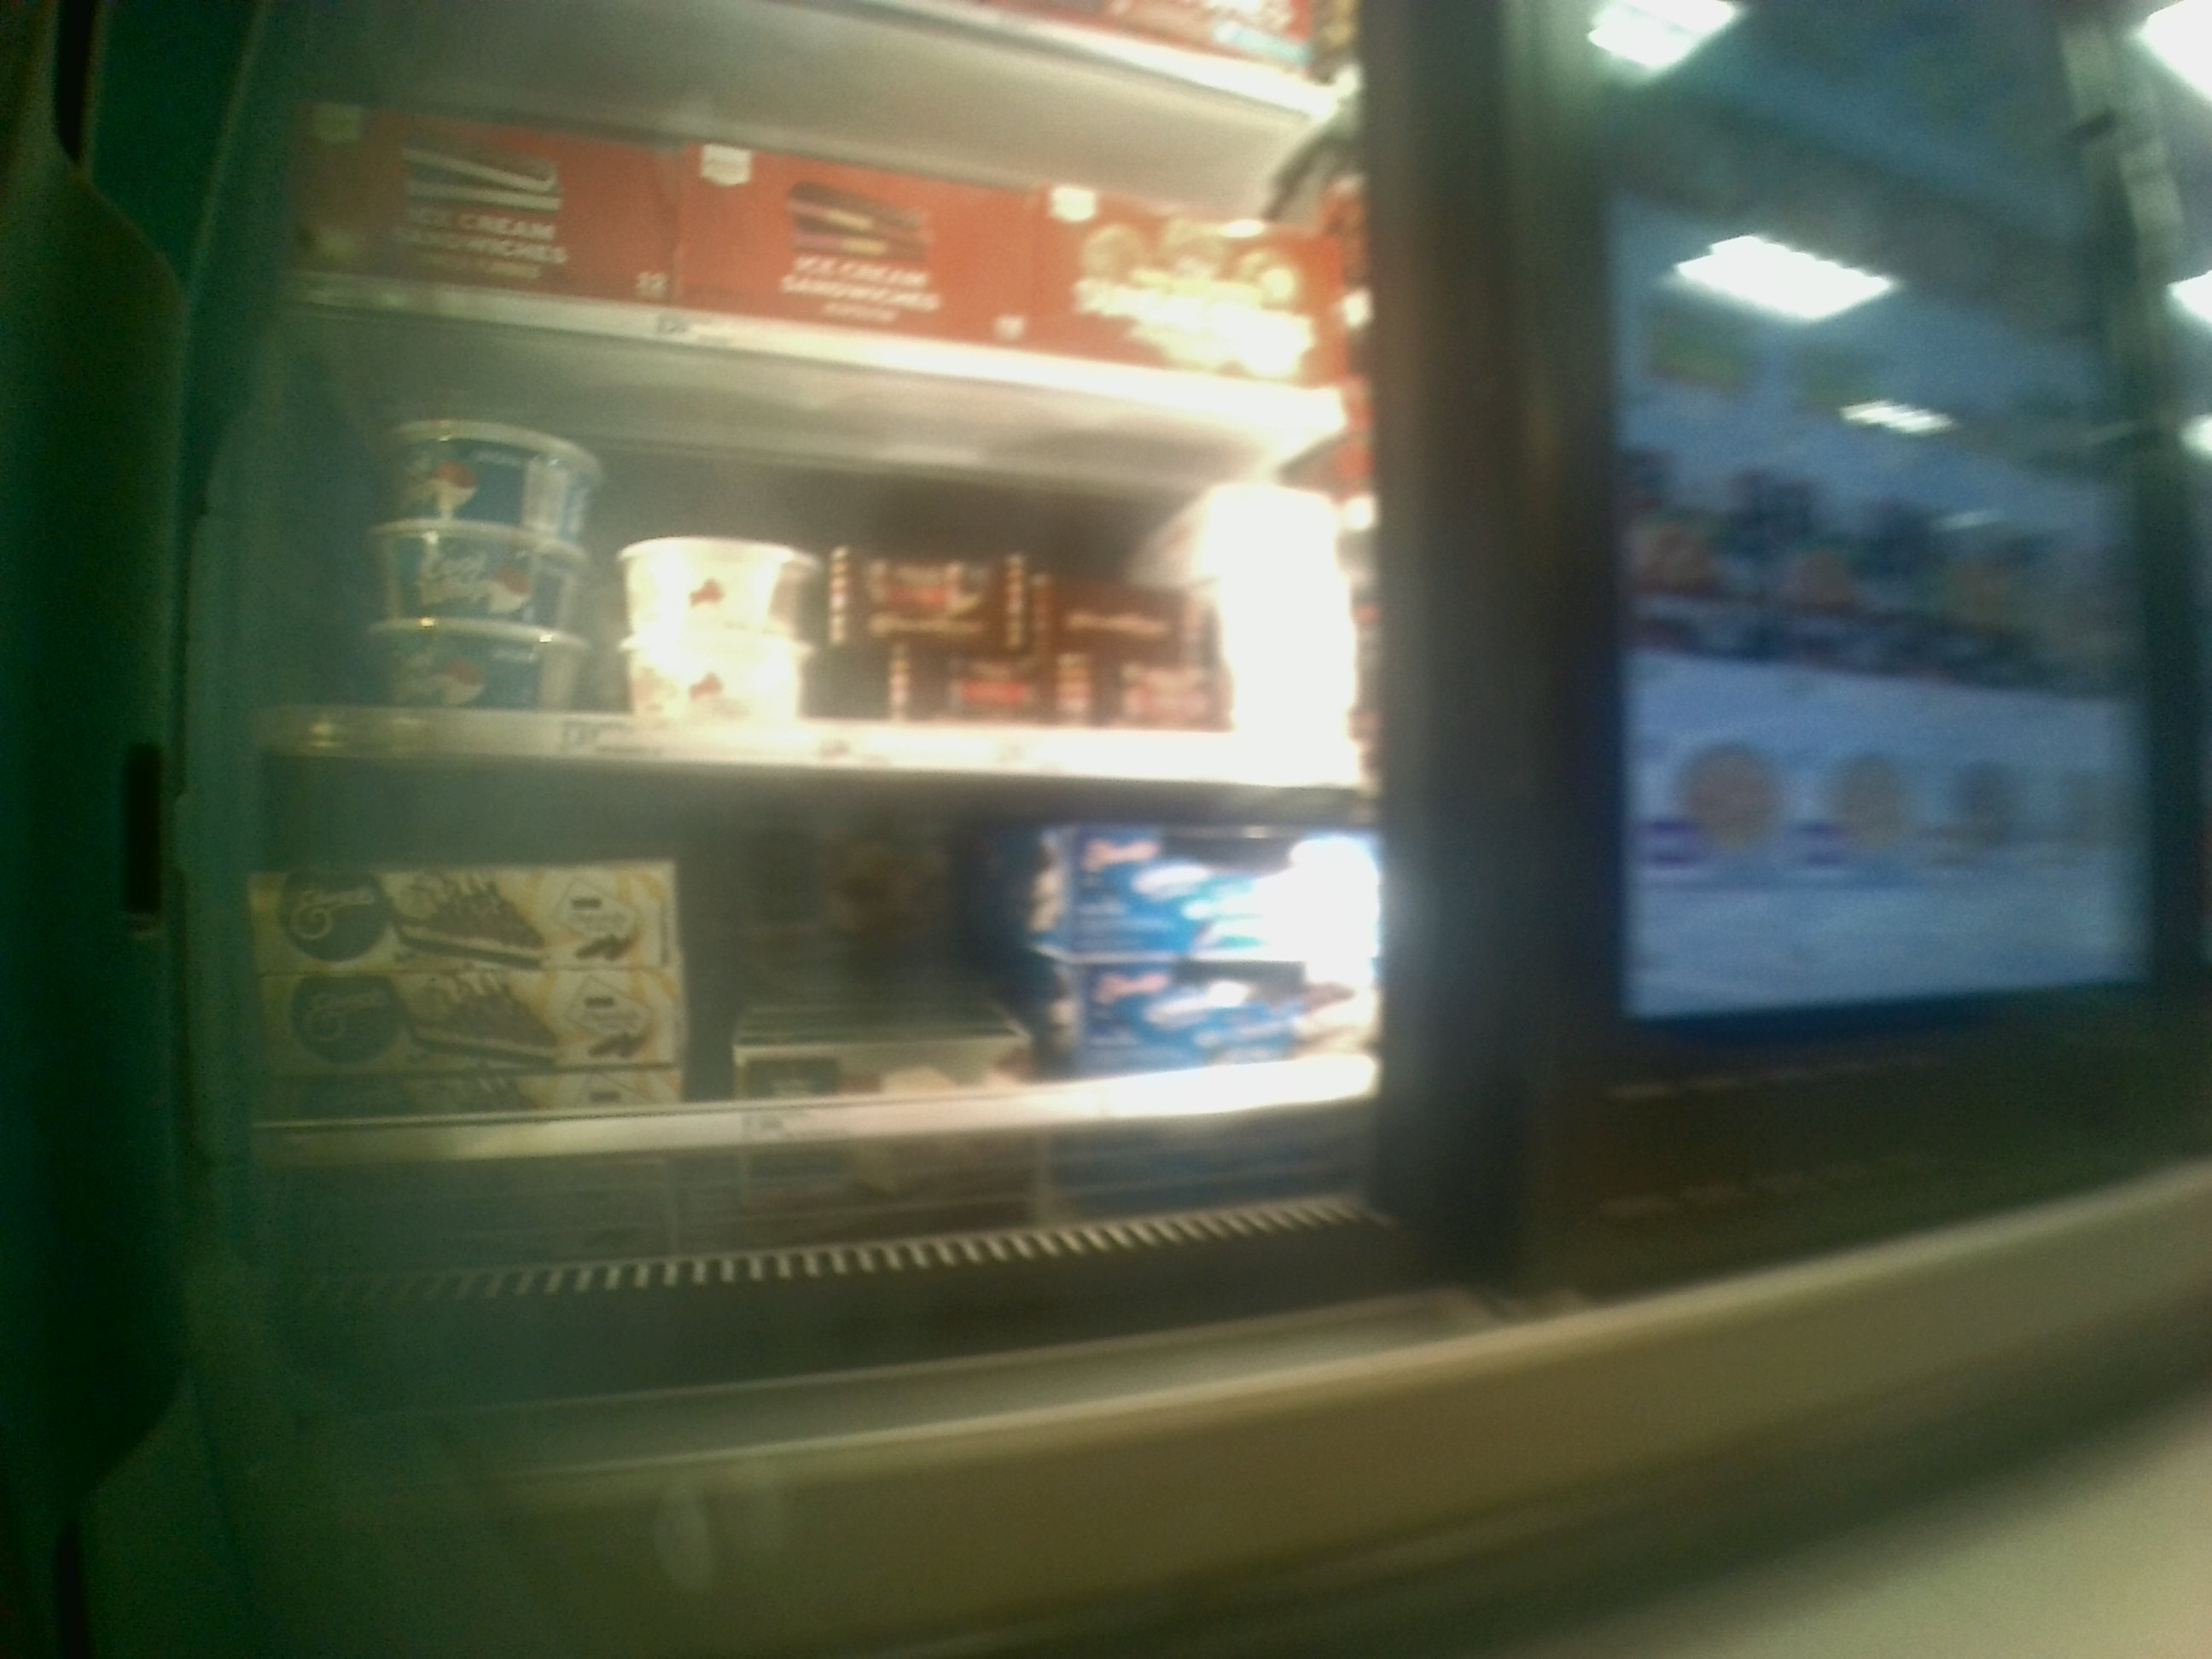shelf: (284, 296, 1374, 796), (246, 774, 1399, 1173)
